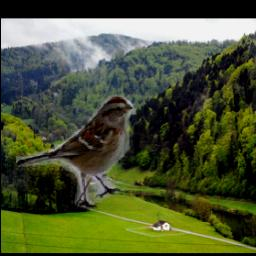Sparrow: (15, 92, 137, 212)
